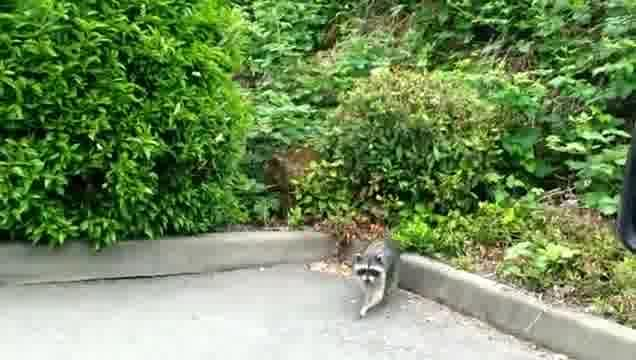raccoon: (353, 234, 400, 319)
